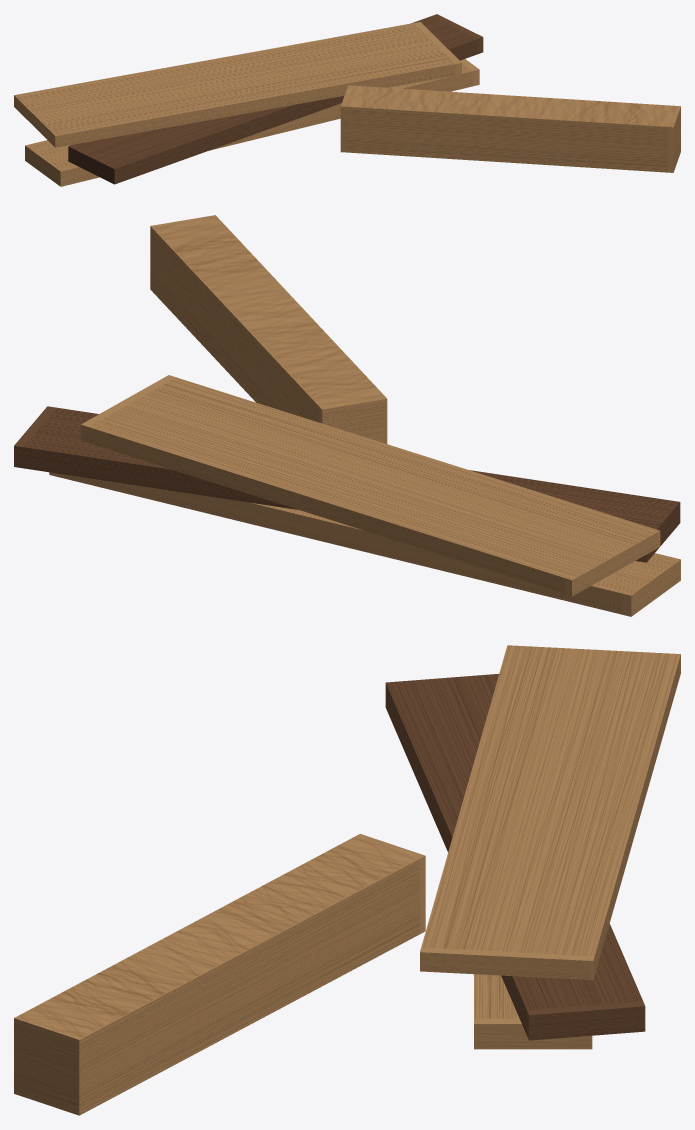
The picture shows the model from 3 angles, top to bottom: view 1: azimuth 30°, elevation 25°; view 2: azimuth 150°, elevation 25°; view 3: azimuth 270°, elevation 25°; orthographic projection. The views are drawn at different scales.
Bounding box in the file's own units: 2.75 × 0.24 × 1.92.
3 materials, 2 textured.
